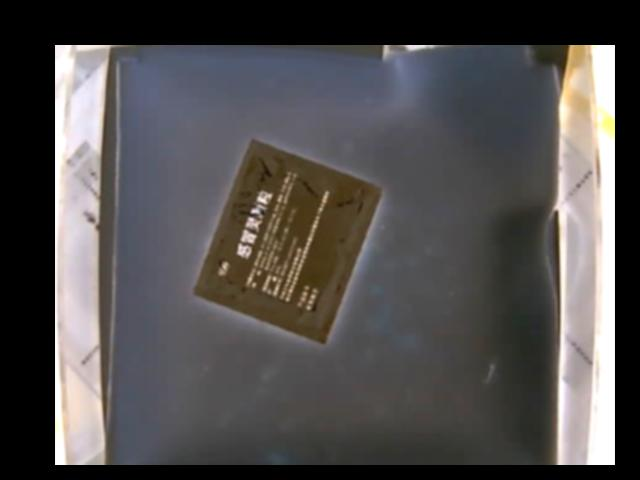Medicine: (193, 137, 384, 345)
